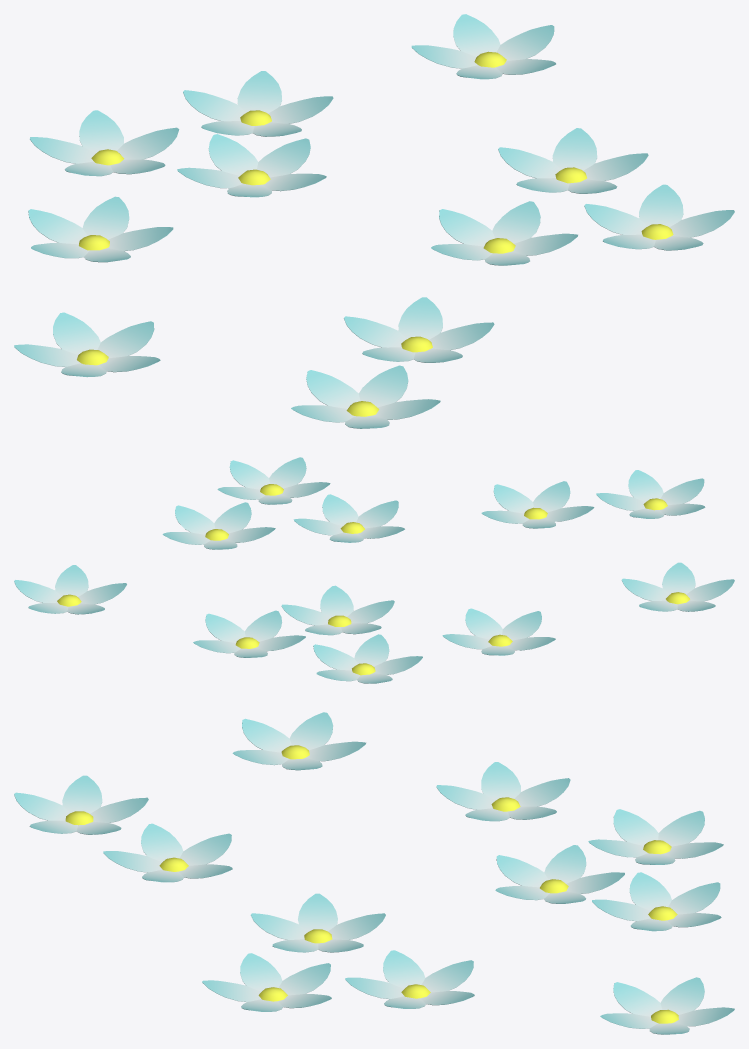
The model's file is White_Patch.fbx.
The picture shows the model from 3 angles, top to bottom: view 1: azimuth 30°, elevation 25°; view 2: azimuth 150°, elevation 25°; view 3: azimuth 270°, elevation 25°; orthographic projection. The views are drawn at different scales.
Visible parts, largest first — view 1: pasted__pasted__pasted__pasted__Flower8, pasted__pasted__pasted__pasted__Flower14, pasted__pasted__pasted__pasted__Flower11, pasted__pasted__pasted__pasted__Flower16, pasted__pasted__pasted__pasted__Flower9, pasted__pasted__pasted__pasted__Flower10, pasted__pasted__pasted__pasted__Flower13, pasted__pasted__pasted__pasted__Flower12, pasted__pasted__pasted__pasted__Flower15, pasted__pasted__pasted__pasted__Flower7, pasted__pasted__pasted__pasted__Flower17; view 2: pasted__pasted__pasted__pasted__Flower17, pasted__pasted__pasted__pasted__Flower13, pasted__pasted__pasted__pasted__Flower9, pasted__pasted__pasted__pasted__Flower7, pasted__pasted__pasted__pasted__Flower16, pasted__pasted__pasted__pasted__Flower11, pasted__pasted__pasted__pasted__Flower15, pasted__pasted__pasted__pasted__Flower8, pasted__pasted__pasted__pasted__Flower14, pasted__pasted__pasted__pasted__Flower12, pasted__pasted__pasted__pasted__Flower10; view 3: pasted__pasted__pasted__pasted__Flower7, pasted__pasted__pasted__pasted__Flower9, pasted__pasted__pasted__pasted__Flower15, pasted__pasted__pasted__pasted__Flower13, pasted__pasted__pasted__pasted__Flower14, pasted__pasted__pasted__pasted__Flower16, pasted__pasted__pasted__pasted__Flower11, pasted__pasted__pasted__pasted__Flower10, pasted__pasted__pasted__pasted__Flower8, pasted__pasted__pasted__pasted__Flower12, pasted__pasted__pasted__pasted__Flower17.
Part boxes in pixels (x1,y1,x2,y2): pasted__pasted__pasted__pasted__Flower8: [177, 134, 326, 197]; pasted__pasted__pasted__pasted__Flower14: [291, 365, 440, 428]; pasted__pasted__pasted__pasted__Flower11: [431, 201, 577, 265]; pasted__pasted__pasted__pasted__Flower16: [28, 196, 173, 262]; pasted__pasted__pasted__pasted__Flower9: [183, 71, 333, 136]; pasted__pasted__pasted__pasted__Flower10: [584, 184, 734, 250]; pasted__pasted__pasted__pasted__Flower13: [411, 14, 555, 79]; pasted__pasted__pasted__pasted__Flower12: [498, 128, 648, 193]; pasted__pasted__pasted__pasted__Flower15: [344, 297, 494, 362]; pasted__pasted__pasted__pasted__Flower7: [30, 110, 179, 176]; pasted__pasted__pasted__pasted__Flower17: [14, 312, 160, 377]; pasted__pasted__pasted__pasted__Flower17: [621, 562, 734, 611]; pasted__pasted__pasted__pasted__Flower13: [14, 565, 126, 614]; pasted__pasted__pasted__pasted__Flower9: [193, 610, 305, 657]; pasted__pasted__pasted__pasted__Flower7: [313, 634, 422, 683]; pasted__pasted__pasted__pasted__Flower16: [442, 608, 555, 655]; pasted__pasted__pasted__pasted__Flower11: [293, 494, 404, 542]; pasted__pasted__pasted__pasted__Flower15: [481, 481, 594, 528]; pasted__pasted__pasted__pasted__Flower8: [281, 585, 394, 635]; pasted__pasted__pasted__pasted__Flower14: [596, 470, 705, 518]; pasted__pasted__pasted__pasted__Flower12: [162, 502, 275, 549]; pasted__pasted__pasted__pasted__Flower10: [217, 457, 330, 504]; pasted__pasted__pasted__pasted__Flower7: [588, 809, 723, 864]; pasted__pasted__pasted__pasted__Flower9: [592, 872, 721, 931]; pasted__pasted__pasted__pasted__Flower15: [103, 823, 232, 882]; pasted__pasted__pasted__pasted__Flower13: [600, 977, 734, 1034]; pasted__pasted__pasted__pasted__Flower14: [14, 775, 148, 834]; pasted__pasted__pasted__pasted__Flower16: [436, 762, 570, 821]; pasted__pasted__pasted__pasted__Flower11: [251, 893, 385, 952]; pasted__pasted__pasted__pasted__Flower10: [202, 953, 331, 1011]; pasted__pasted__pasted__pasted__Flower8: [495, 845, 624, 903]; pasted__pasted__pasted__pasted__Flower12: [345, 950, 474, 1008]; pasted__pasted__pasted__pasted__Flower17: [232, 712, 365, 770].
Bounding box in the file's own units: 67.67 × 1.41 × 64.1.
